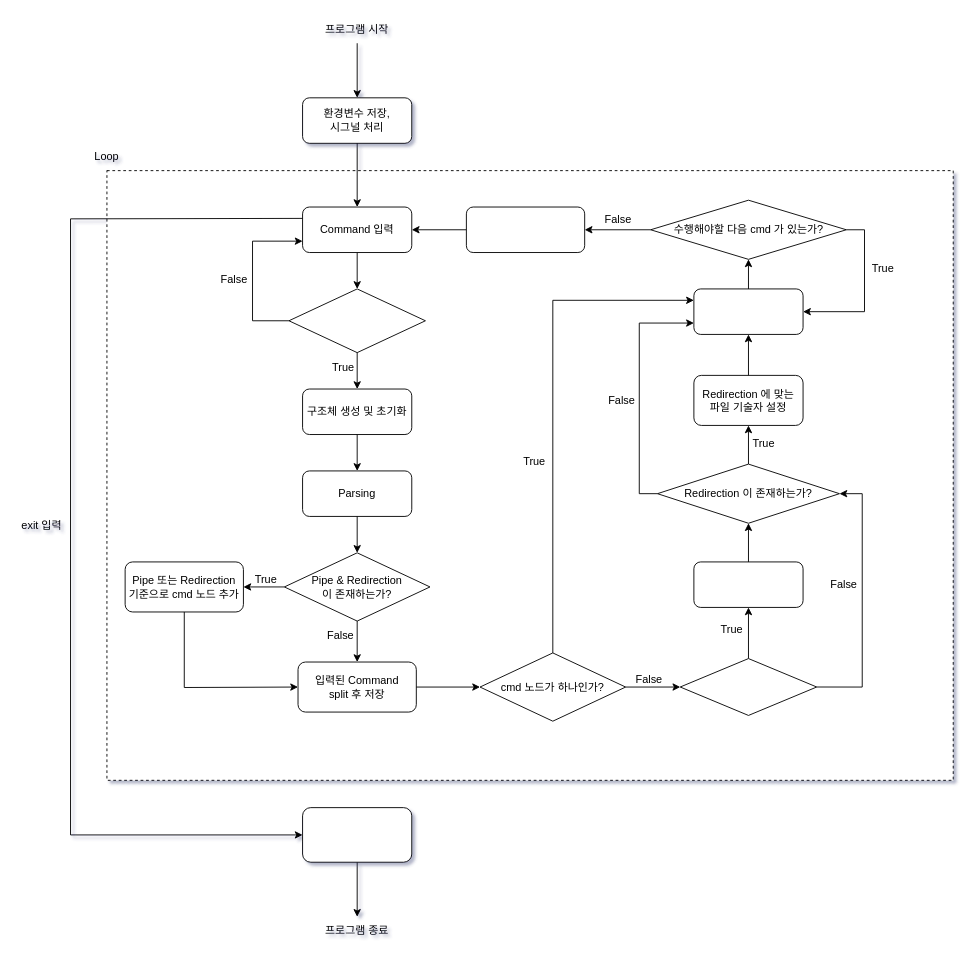
The diagram is 975 pixels wide and 965 high, and some of its shapes have lost their labels. The centre of each missing label's shape, as x and y in pixels:
cmd 구조체 메모리 해제: the point at 525,229
Command 수행: the point at 748,311
Pipe 가 존재하는가?: the point at 748,686
Pipe 생성: the point at 748,584
입력된 command 가 유효한가?: the point at 356,320
할당된 메모리 해제: the point at 357,834
